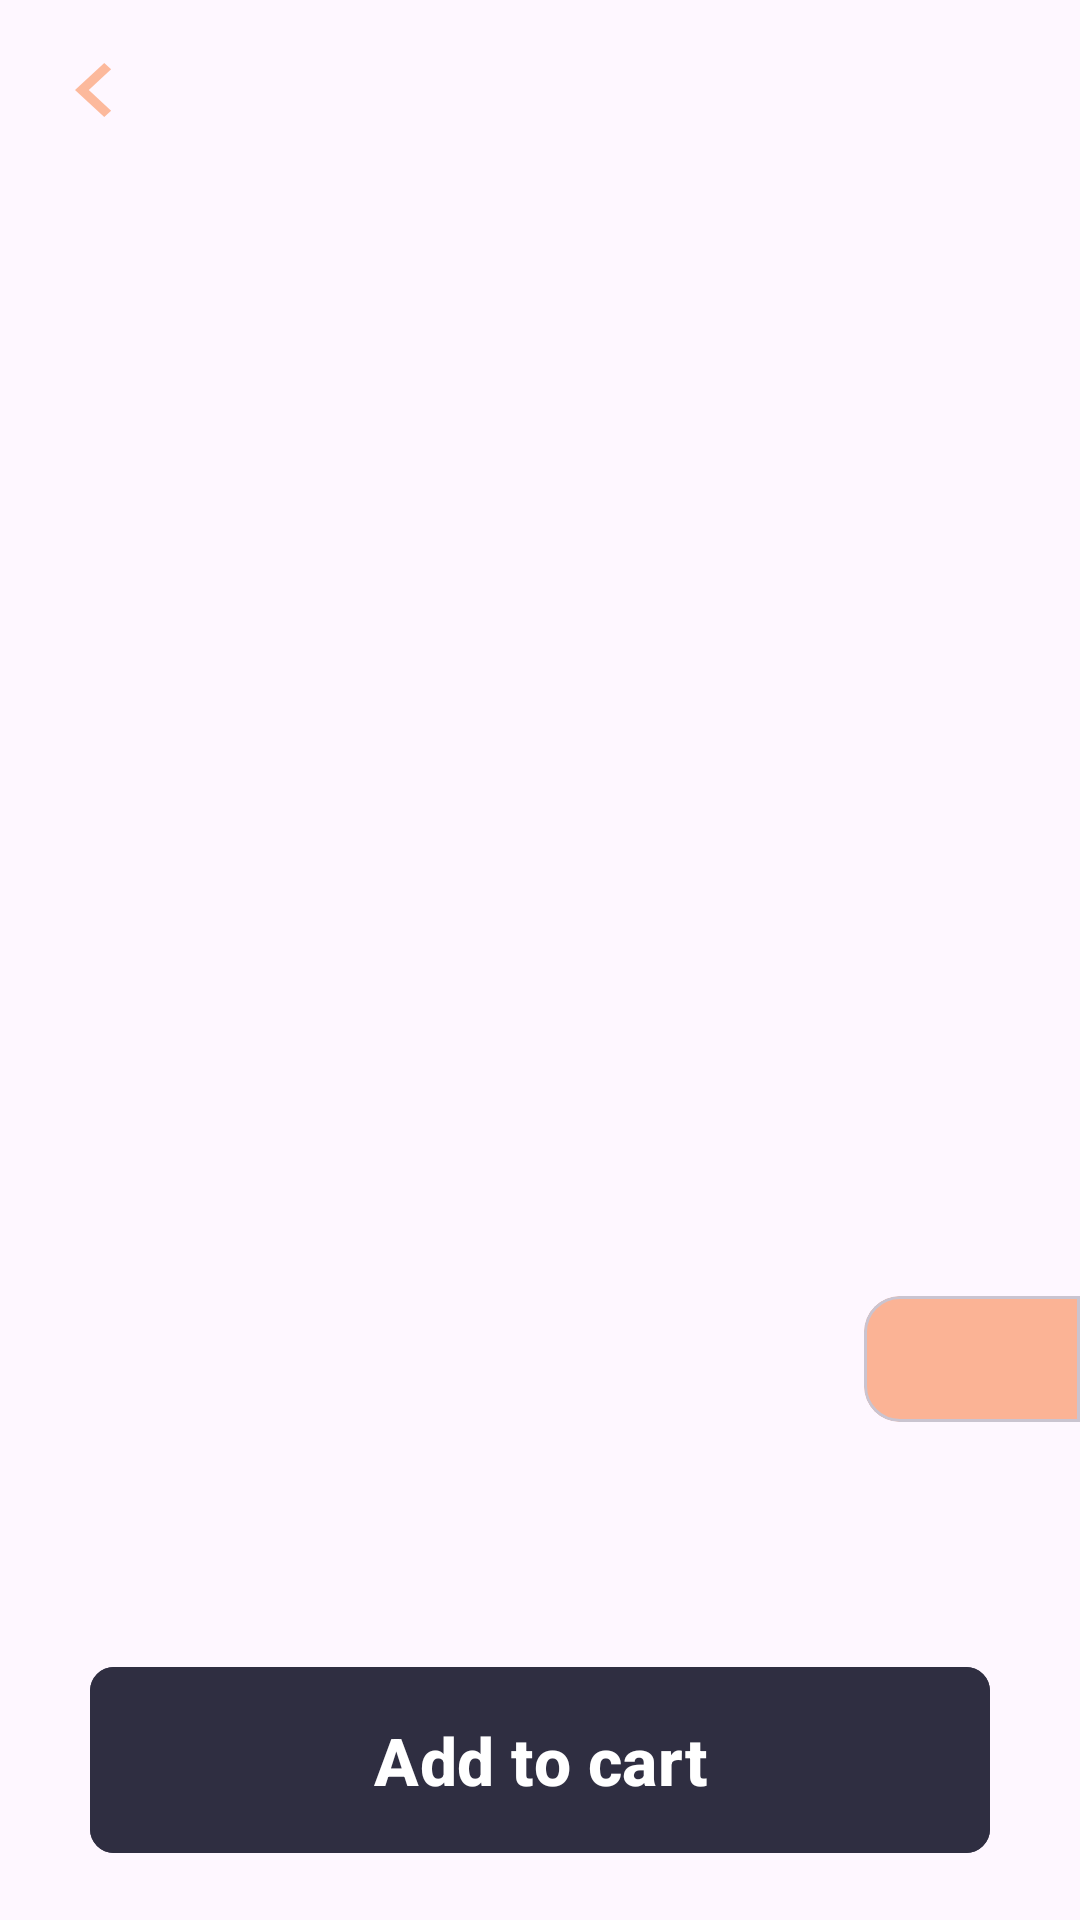

Named icons in this screenshot (1080x1920) and their centers, point (x, y):
keyboard arrow left: point (93, 90)
